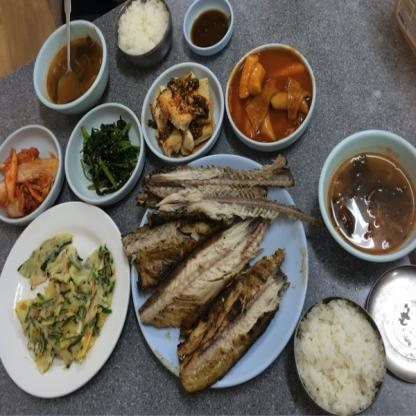Peixe: (137, 159, 289, 382)
